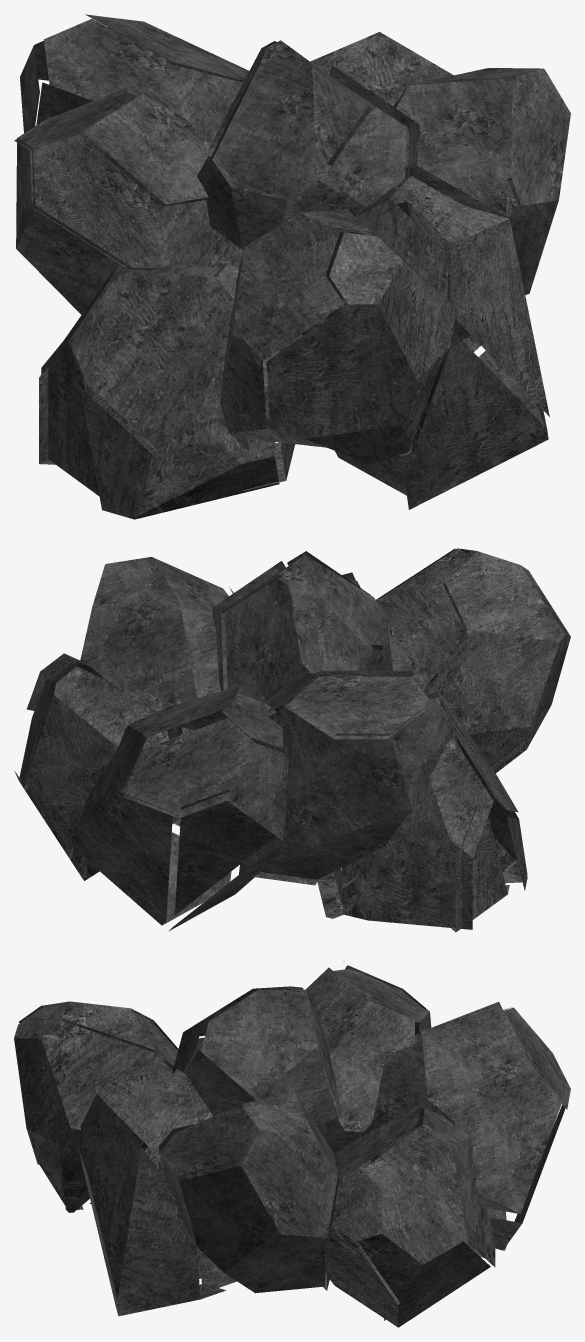
Rendered from Stone7.obj.
The picture shows the model from 3 angles, top to bottom: view 1: azimuth 30°, elevation 25°; view 2: azimuth 150°, elevation 25°; view 3: azimuth 270°, elevation 25°; orthographic projection. The views are drawn at different scales.
Parts seen in each view (by area): view 1: Object015; view 2: Object015; view 3: Object015.
Part boxes in pixels (x1,y1,x2,y2): Object015: [14, 14, 570, 519]; Object015: [14, 548, 570, 932]; Object015: [14, 961, 570, 1327].
Size of the model in its own units: 173 by 130 by 218.
Materials: 1 (1 with a texture image).
